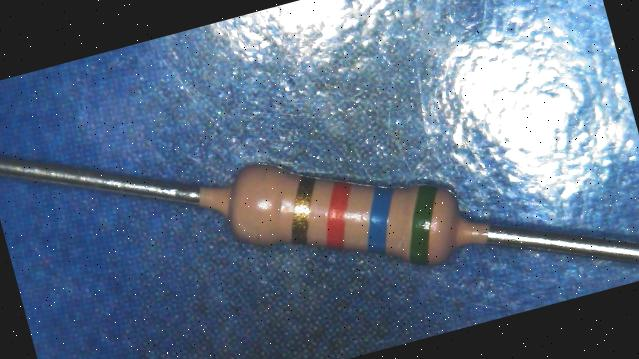blue: (352, 184, 407, 258)
gold: (275, 172, 330, 247)
green: (390, 182, 453, 268)
orange: (310, 178, 364, 252)
resistor: (188, 143, 497, 296)
